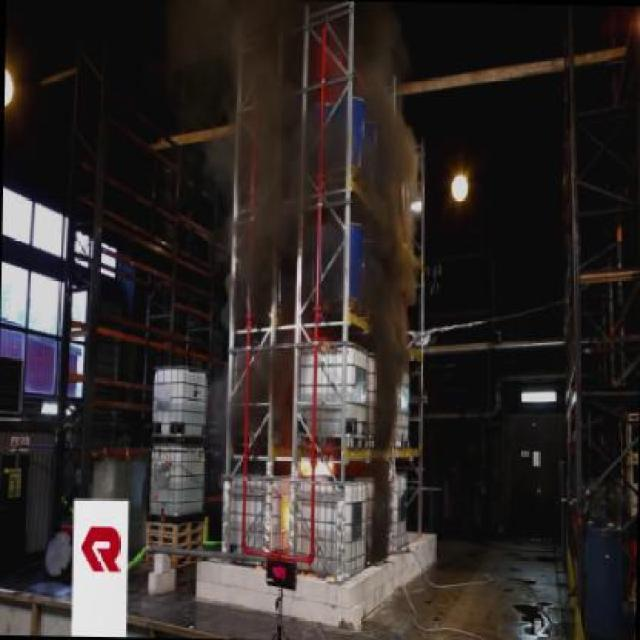fire: (363, 1, 429, 458), (195, 0, 303, 246)
